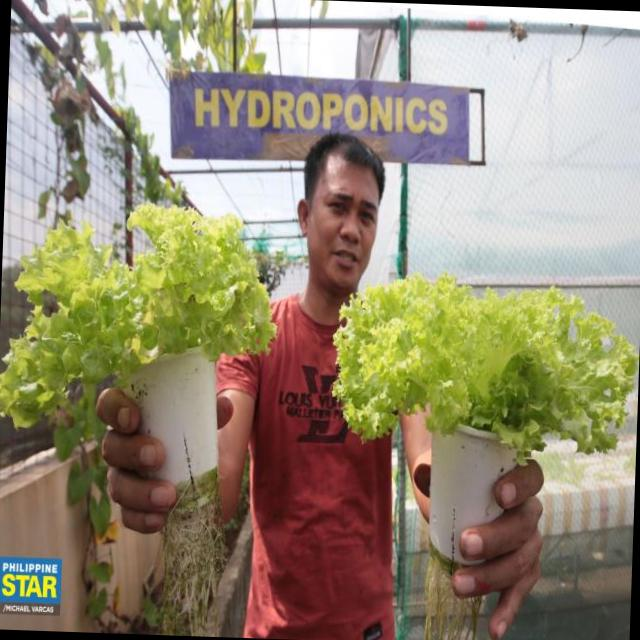Lettuce-Ready-to-Harvest: (0, 203, 274, 460), (331, 273, 639, 454)
